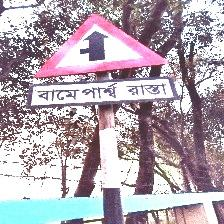Side-road-left: (28, 12, 177, 112)
